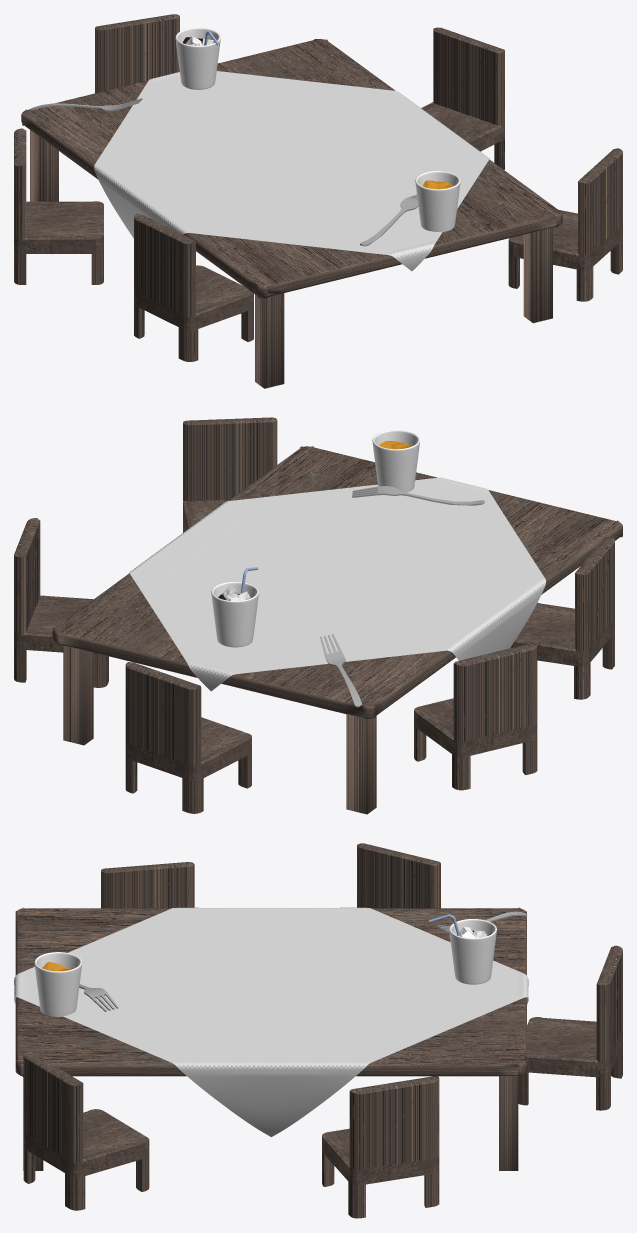
Rendered from table 1.fbx.
3 renders of one model, top to bottom at view 1: azimuth 30°, elevation 25°; view 2: azimuth 150°, elevation 25°; view 3: azimuth 270°, elevation 25°, orthographic. The views are drawn at different scales.
Parts seen in each view (by area): view 1: table cloth, table, Cube.005, Cube.006, Cube.004, Cube.003, Cube.007, Vert.002, Vert, Object_2.001; view 2: table cloth, table, Cube.003, Cube.007, Cube.005, Cube.004, Cube.006, Vert, Vert.002, Object_2.001, Object_2; view 3: table cloth, table, Cube.006, Cube.004, Cube.007, Cube.003, Cube.005, Vert.002, Vert.
Boxes of the visible parts, bbox=[...] form: table cloth: bbox=[94, 71, 489, 271]; table: bbox=[21, 39, 562, 388]; Cube.005: bbox=[134, 213, 253, 361]; Cube.006: bbox=[421, 27, 504, 169]; Cube.004: bbox=[508, 148, 622, 301]; Cube.003: bbox=[14, 128, 103, 284]; Cube.007: bbox=[95, 14, 179, 93]; Vert.002: bbox=[415, 171, 460, 231]; Vert: bbox=[175, 27, 220, 89]; Object_2.001: bbox=[360, 194, 418, 246]; table cloth: bbox=[129, 477, 545, 691]; table: bbox=[52, 446, 622, 814]; Cube.003: bbox=[414, 643, 537, 790]; Cube.007: bbox=[125, 662, 251, 813]; Cube.005: bbox=[510, 536, 614, 699]; Cube.004: bbox=[183, 417, 277, 532]; Cube.006: bbox=[14, 518, 108, 687]; Vert: bbox=[211, 581, 258, 647]; Vert.002: bbox=[372, 430, 419, 492]; Object_2.001: bbox=[352, 486, 484, 505]; Object_2: bbox=[320, 634, 361, 707]; table cloth: bbox=[14, 907, 528, 1136]; table: bbox=[15, 907, 526, 1170]; Cube.006: bbox=[322, 1076, 439, 1218]; Cube.004: bbox=[23, 1051, 149, 1210]; Cube.007: bbox=[518, 945, 622, 1110]; Cube.003: bbox=[357, 843, 440, 908]; Cube.005: bbox=[101, 862, 194, 908]; Vert.002: bbox=[34, 952, 82, 1016]; Vert: bbox=[449, 919, 496, 984].
Size of the model in its own units: 3191 by 1091 by 3279.
